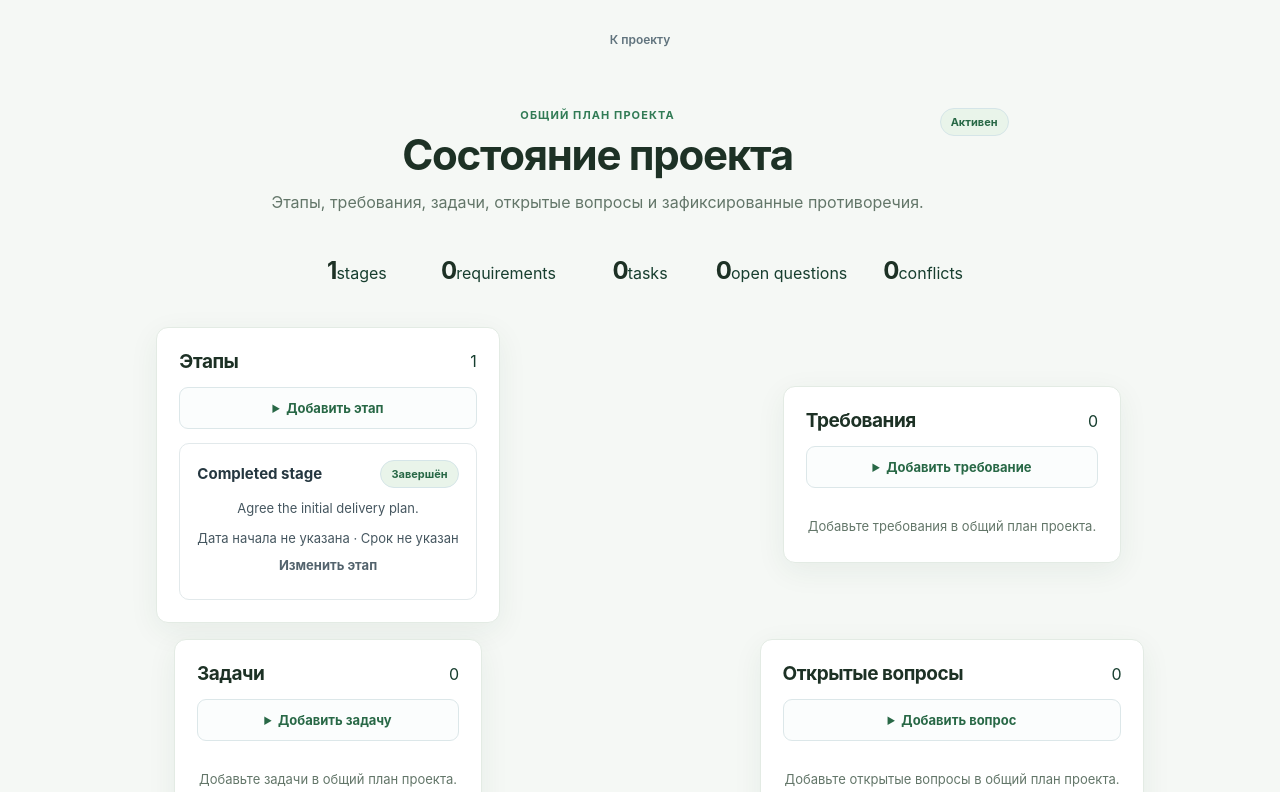
Test: executor can edit terminal stage content without a status control
Expected: the heading "Completed stage" is shown, [197,464,322,483]
Click the button "Изменить этап". click: (328, 566)
box: [268,549,388,583]
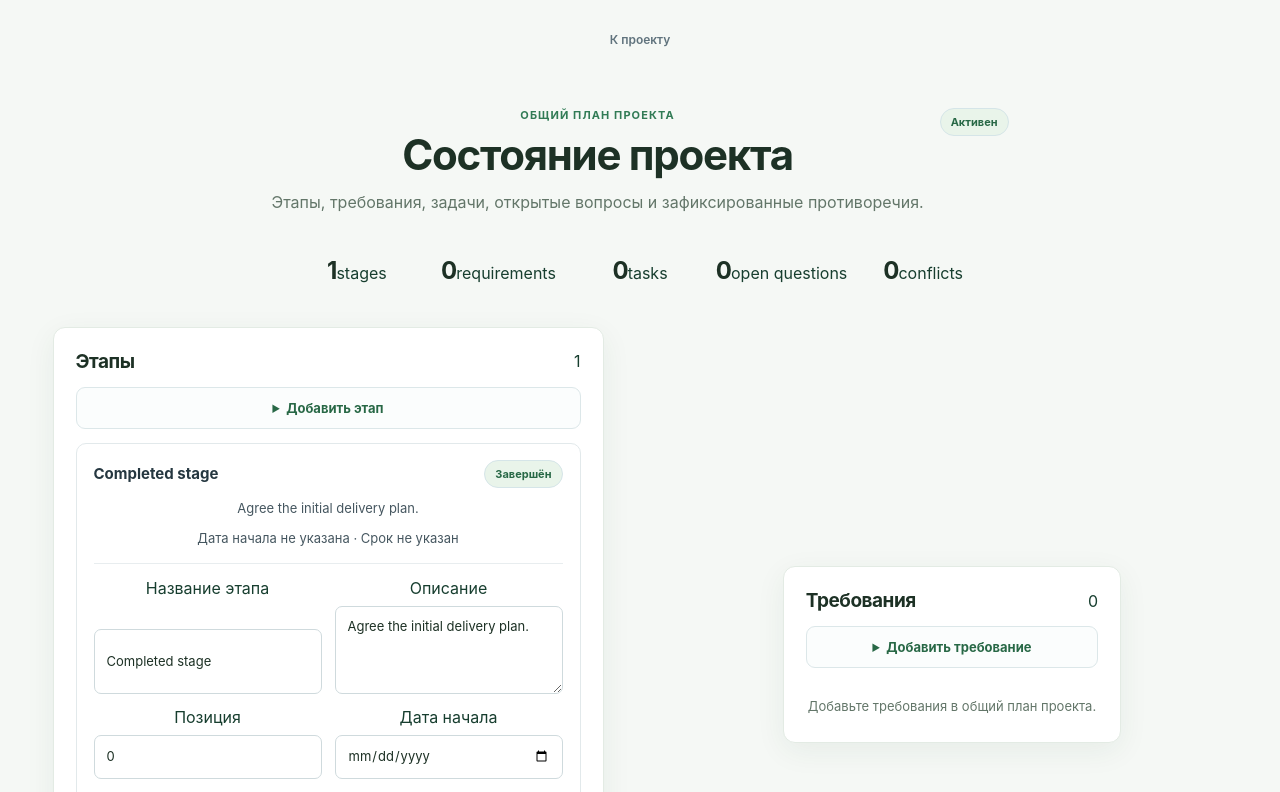
Replace the text in the field labelled "Название этапа" with "Updated completed stage". click: (208, 661)
box: [94,629,322,694]
(page scrolled)
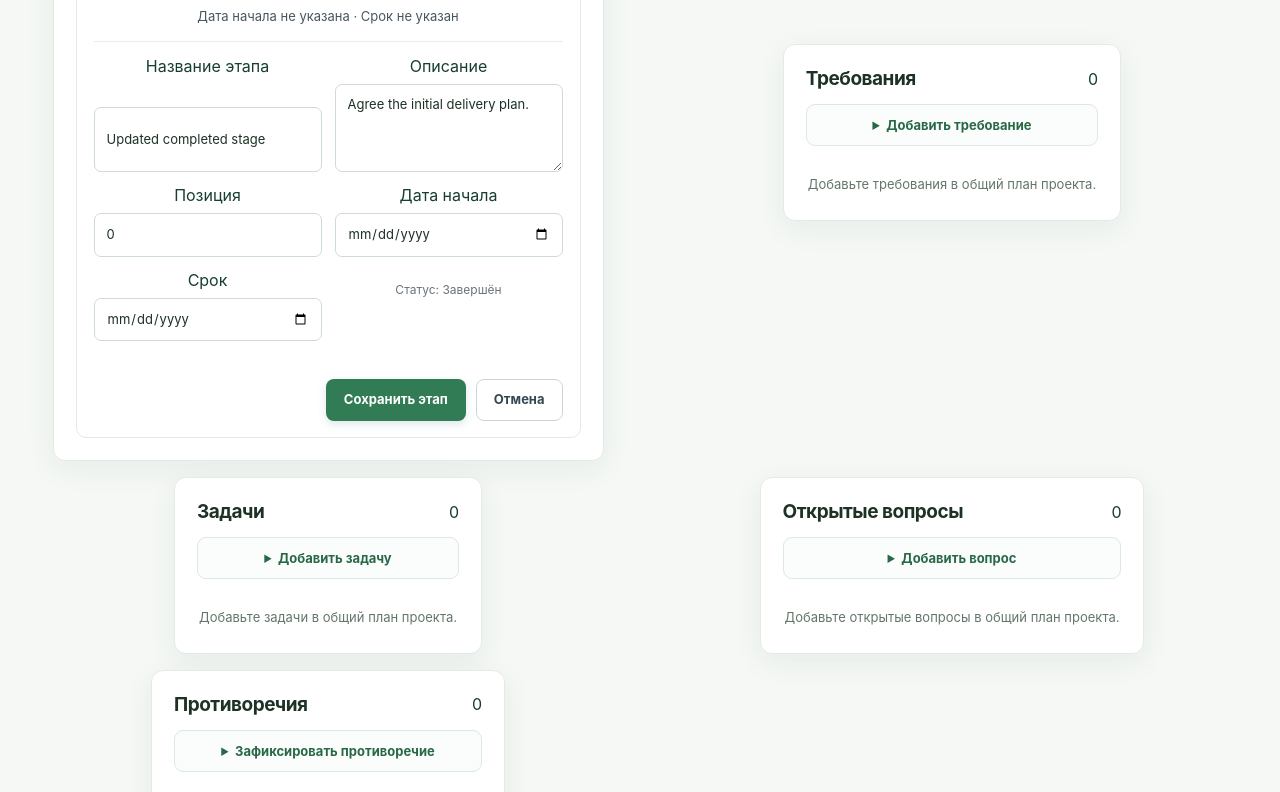
Click the button "Сохранить этап". click: (396, 400)
box: [326,379,466,421]
(page scrolled)
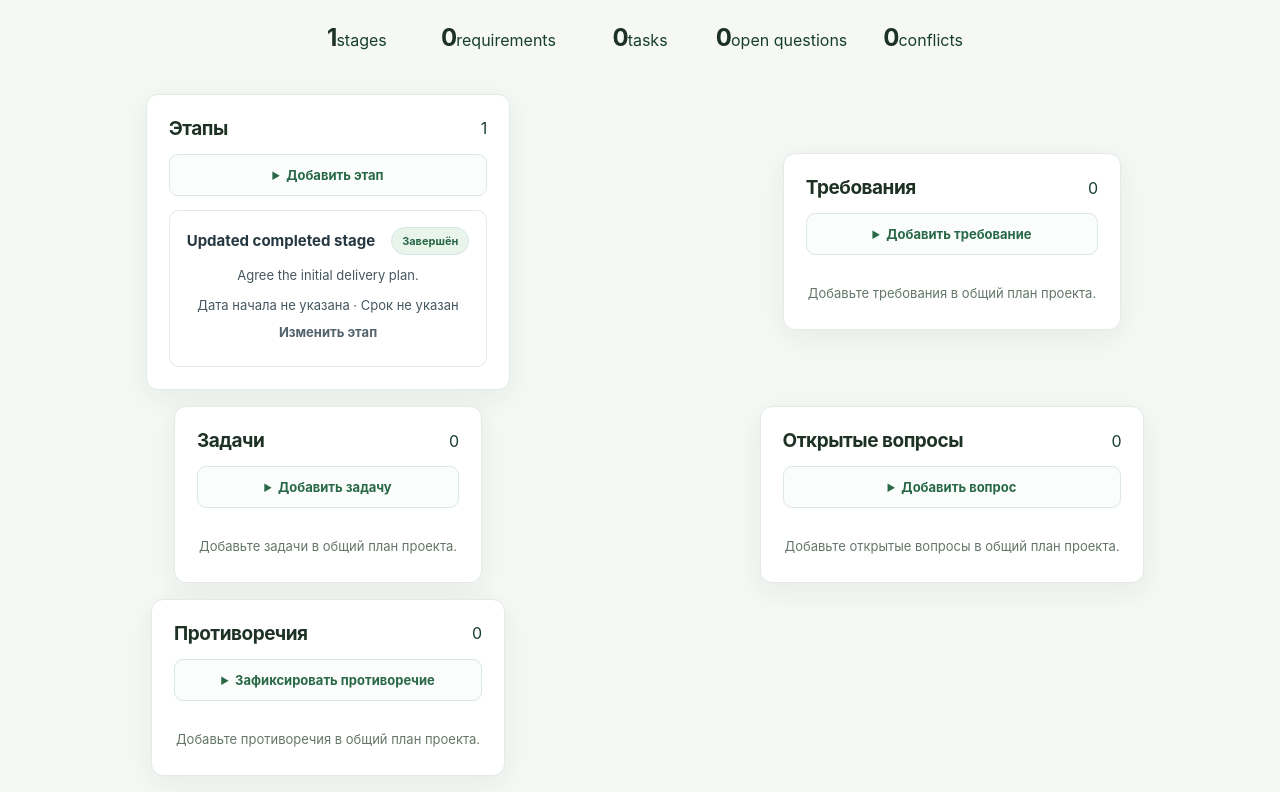
Expected: the heading "Updated completed stage" is shown, [187,231,375,250]
